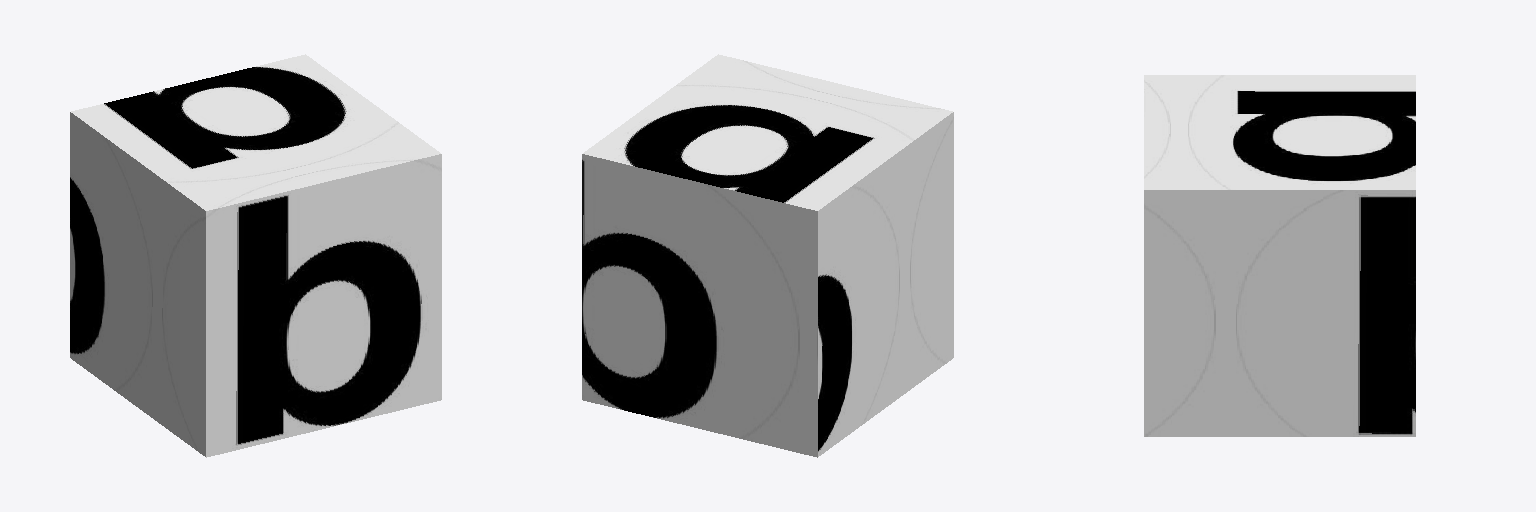
3 views of the same model, side by side, from view 1: azimuth 30°, elevation 25°; view 2: azimuth 150°, elevation 25°; view 3: azimuth 270°, elevation 25° (orthographic).
Parts seen in each view (by area): view 1: Cube; view 2: Cube; view 3: Cube.
Part boxes in pixels (left/top/right/bottom): Cube: left=70, top=54, right=441, bottom=457; Cube: left=582, top=54, right=953, bottom=457; Cube: left=1144, top=75, right=1415, bottom=436.
Size of the model in its own units: 0.5 by 0.5 by 0.5.
1 materials, 1 textured.